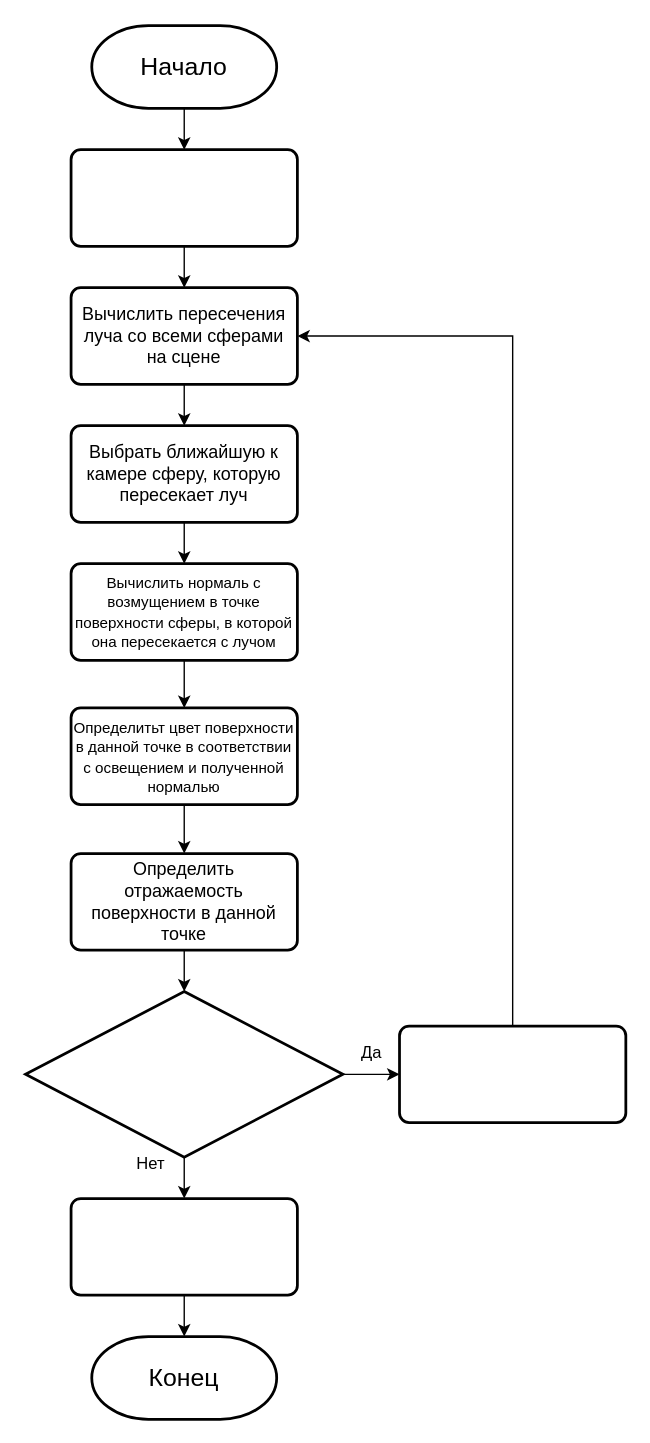
Some shapes in this 650 by 1443 pixel diagram are drawn without their labels. The centre of each missing label's shape, as x and y in pixels:
Вернуть цвет пикселя, который надо отобразить: (x=183, y=1246)
Поверхность отражает луч или достигнута максимальная глубина рекурсии?: (x=183, y=1073)
Получить уравнение луча: (x=183, y=197)
Получить уравнение отраженного луча: (x=512, y=1073)
